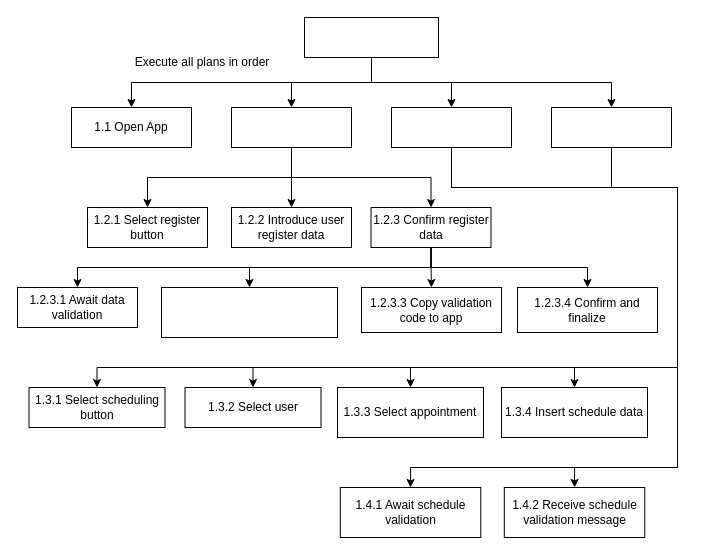
Image size: 703x555. Some labels were removed from this diagram. Here are the shapes that lost their labels. From the top down, the centre of each, then its label:
point 371,37: 1. Schedule transport
point 291,127: 1.2 Register user
point 451,127: 1.3 Request schedule
point 611,127: 1.4 Confirm schedule data
point 249,312: 1.2.3.2 Receive SMS/E-mail message with validation code
